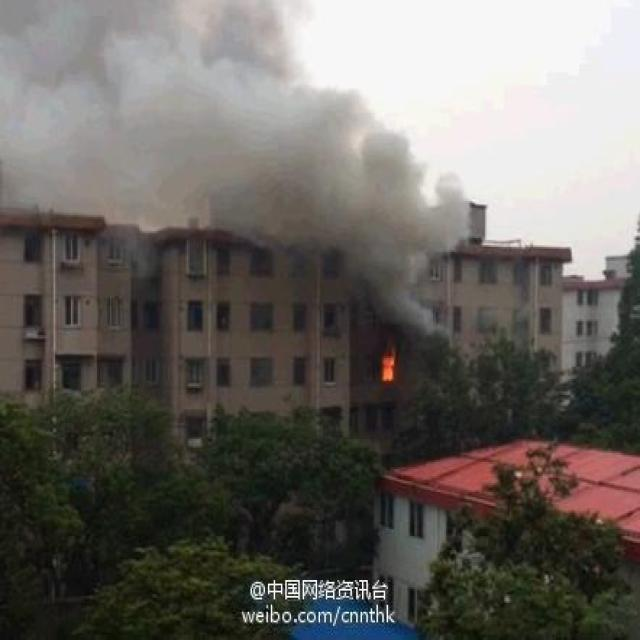fire: (376, 349, 397, 381)
smoke: (0, 4, 469, 340)
